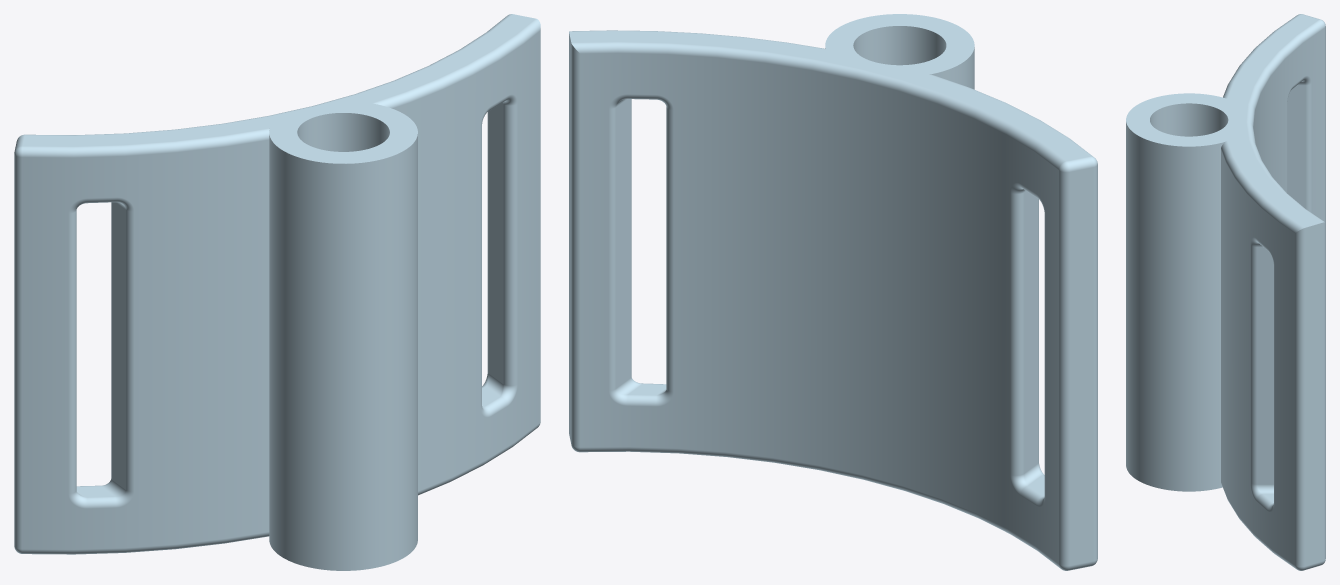
Rendered from bicep_cable_guide.gltf.
3 renders of one model, left to right at view 1: azimuth 30°, elevation 25°; view 2: azimuth 150°, elevation 25°; view 3: azimuth 270°, elevation 25°, orthographic. The views are drawn at different scales.
Parts seen in each view (by area): view 1: Part 1; view 2: Part 1; view 3: Part 1.
Part boxes in pixels (bbox=[...]): Part 1: bbox=[14, 14, 540, 570]; Part 1: bbox=[569, 14, 1097, 570]; Part 1: bbox=[1126, 14, 1325, 570].
Size of the model in its own units: 0.0548 by 0.0406 by 0.0213.
